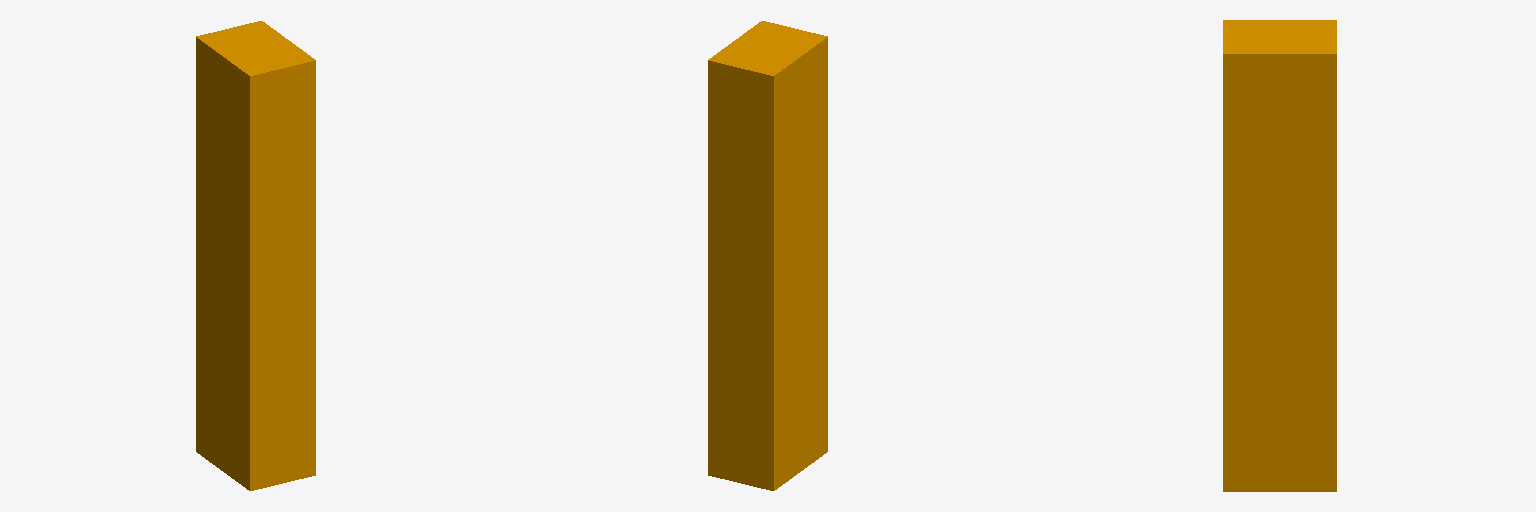
URDF robot description (shelf_model):
<robot name="shelf_model">
  <link name="shelf">
    <contact>
      <lateral_friction value="0.5"/>
    </contact>
    <inertial>
      <mass value="3.0" />
      <!-- center of mass (com) is defined w.r.t. link local coordinate system -->
      <origin xyz="0 0 0" /> 
      <inertia  ixx="1" ixy="0.0"  ixz="0.0"  iyy="1"  iyz="0.0"  izz="1" />
    </inertial>
    <visual>
      <!-- visual origin is defined w.r.t. link local coordinate system -->
      <origin xyz="0 0 0" rpy="0 0 0" />
      <geometry>
        <box size="0.2 0.285 1.2"/>
      </geometry>
    </visual>
    <collision>
      <!-- collision origin is defined w.r.t. link local coordinate system -->
      <origin xyz="0 0 0" rpy="0 0 0" />
      <geometry>
        <box size="0.2 0.285 1.2"/>
      </geometry>
    </collision>
  </link>
  <!-- <gazebo reference="shelf">
    <turnGravityOff>false</turnGravityOff>
    <genTexCoord>true</genTexCoord>
    <kp>100000000.0</kp>
    <kd>10000.0</kd>
  </gazebo> -->
</robot>

--- Facts derived from the render (not from the file) ---
The picture shows the robot from 3 angles, left to right: view 1: azimuth 30°, elevation 25°; view 2: azimuth 150°, elevation 25°; view 3: azimuth 270°, elevation 25°; orthographic projection.
Robot: shelf_model — 1 links, 0 joints (none); root link shelf; default pose: all joints at 0.
Visible links, largest first — view 1: shelf; view 2: shelf; view 3: shelf.
Link boxes in pixels (left/top/right/bottom): shelf: left=196, top=21, right=315, bottom=490; shelf: left=708, top=21, right=827, bottom=490; shelf: left=1223, top=20, right=1336, bottom=491.
Bounding box of the posed robot: 0.2 × 0.285 × 1.2 m (x, y, z).
Geometry: primitives only (box / cylinder / sphere), no mesh files.